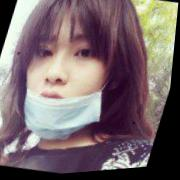WRONG: (11, 24, 127, 144)
